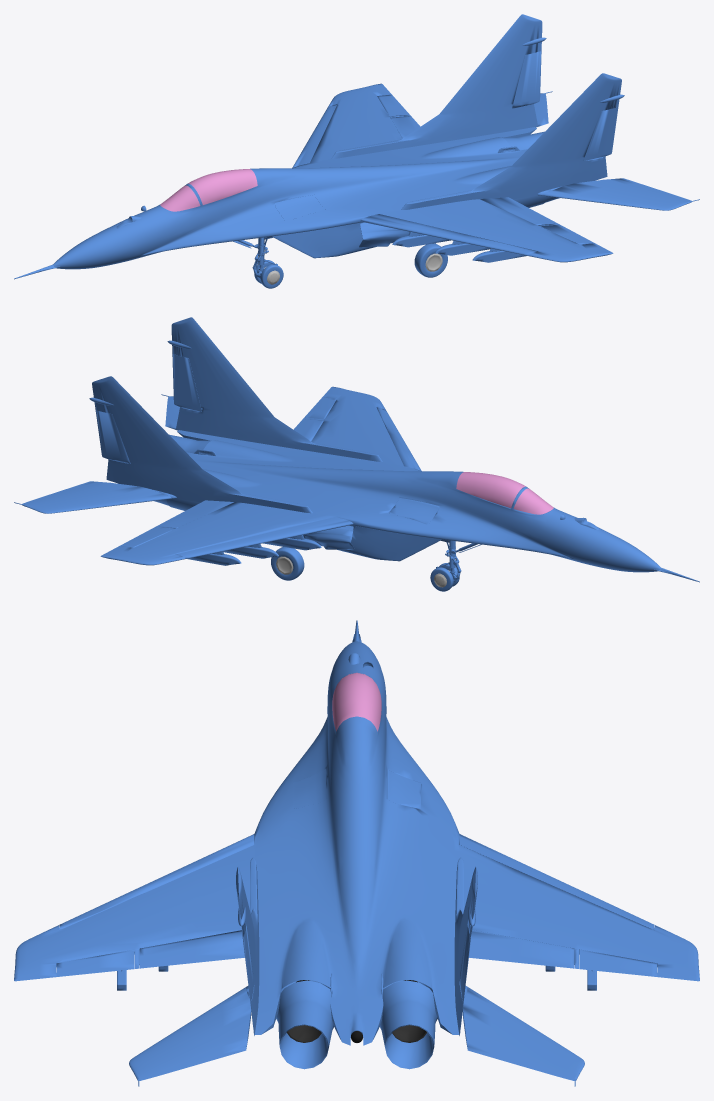
The picture shows the model from 3 angles, top to bottom: view 1: azimuth 30°, elevation 25°; view 2: azimuth 150°, elevation 25°; view 3: azimuth 270°, elevation 25°; orthographic projection. The views are drawn at different scales.
Visible parts, largest first — view 1: AM84_016_13, AM84_016_14, AM84_016_06, AM84_016_07; view 2: AM84_016_13, AM84_016_14, AM84_016_23, AM84_016_07; view 3: AM84_016_13, AM84_016_14, AM84_016_20.
Part boxes in pixels (box(x1,y1,x2,y2)): AM84_016_13: box(14, 14, 699, 279); AM84_016_14: box(160, 169, 257, 211); AM84_016_06: box(414, 243, 447, 277); AM84_016_07: box(237, 237, 277, 279); AM84_016_13: box(14, 317, 699, 582); AM84_016_14: box(456, 472, 553, 514); AM84_016_23: box(271, 547, 304, 580); AM84_016_07: box(436, 540, 477, 581); AM84_016_13: box(14, 620, 699, 1086); AM84_016_14: box(332, 672, 381, 731); AM84_016_20: box(287, 980, 426, 1042).
Size of the model in its own units: 1739632 by 462674 by 1141678.
